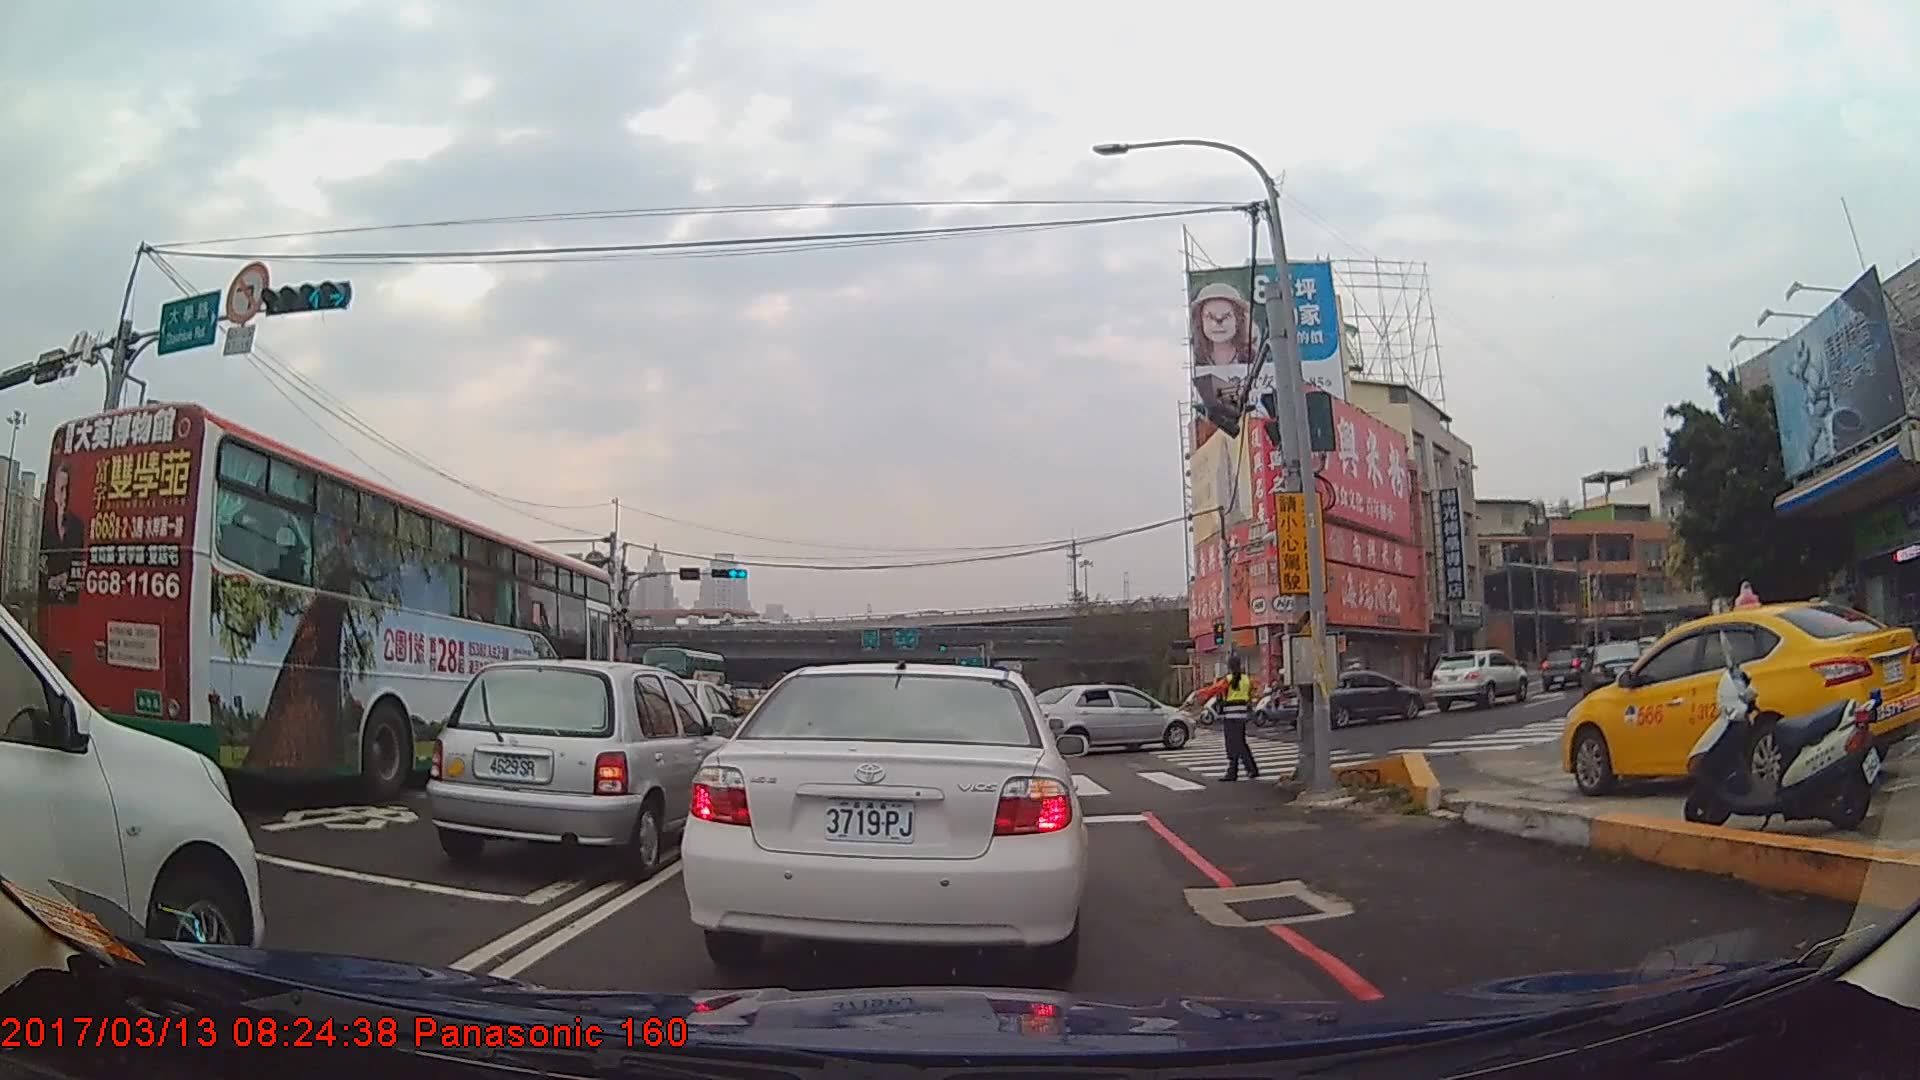pedestrian: (1193, 656, 1260, 787)
rider: (1253, 667, 1301, 726)
vehicle: (32, 397, 623, 811), (676, 660, 1088, 983), (0, 603, 264, 984), (1557, 598, 1920, 797), (428, 656, 742, 875), (1013, 682, 1195, 756), (1279, 668, 1421, 731), (1429, 648, 1528, 710), (1578, 638, 1648, 704), (1540, 644, 1594, 690)
